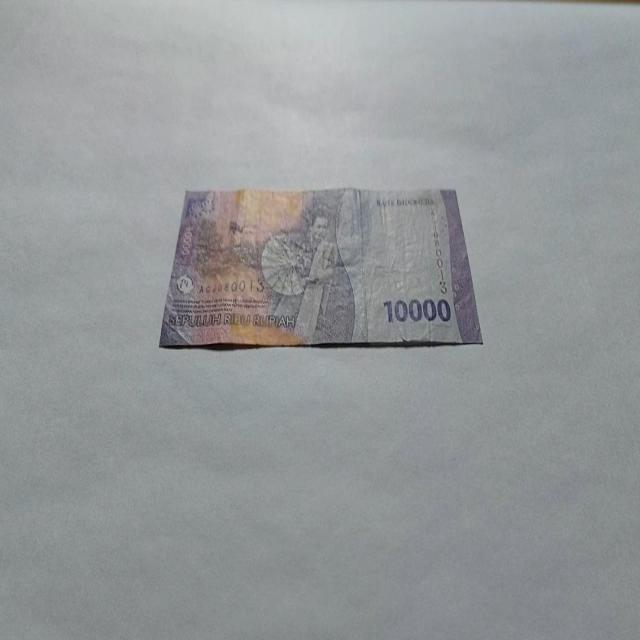Kertas: (158, 185, 484, 350), (382, 295, 452, 325)
